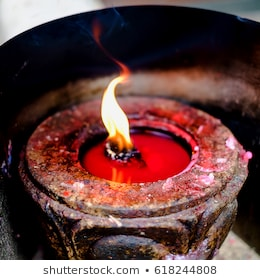Fire: (93, 61, 141, 150)
